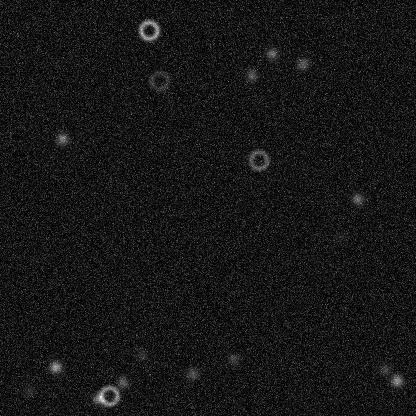Ring: (147, 68, 171, 92), (246, 147, 270, 171), (136, 18, 160, 42), (97, 383, 121, 407)
Spot: (377, 361, 393, 377), (54, 130, 70, 146), (294, 55, 310, 71), (21, 383, 37, 399), (184, 365, 200, 381), (114, 374, 130, 390), (225, 351, 241, 367), (243, 67, 259, 83), (90, 390, 106, 406), (349, 190, 365, 206), (263, 45, 279, 61), (388, 372, 404, 388), (134, 346, 150, 362), (332, 227, 348, 243), (47, 358, 63, 374)
